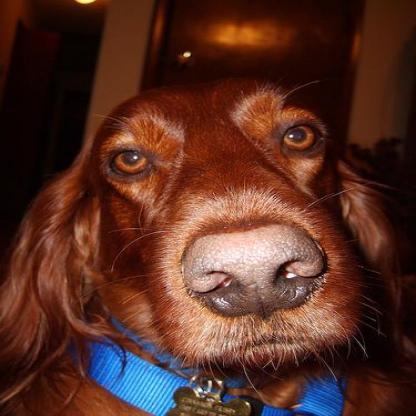Irish_setter: (0, 72, 413, 414)
